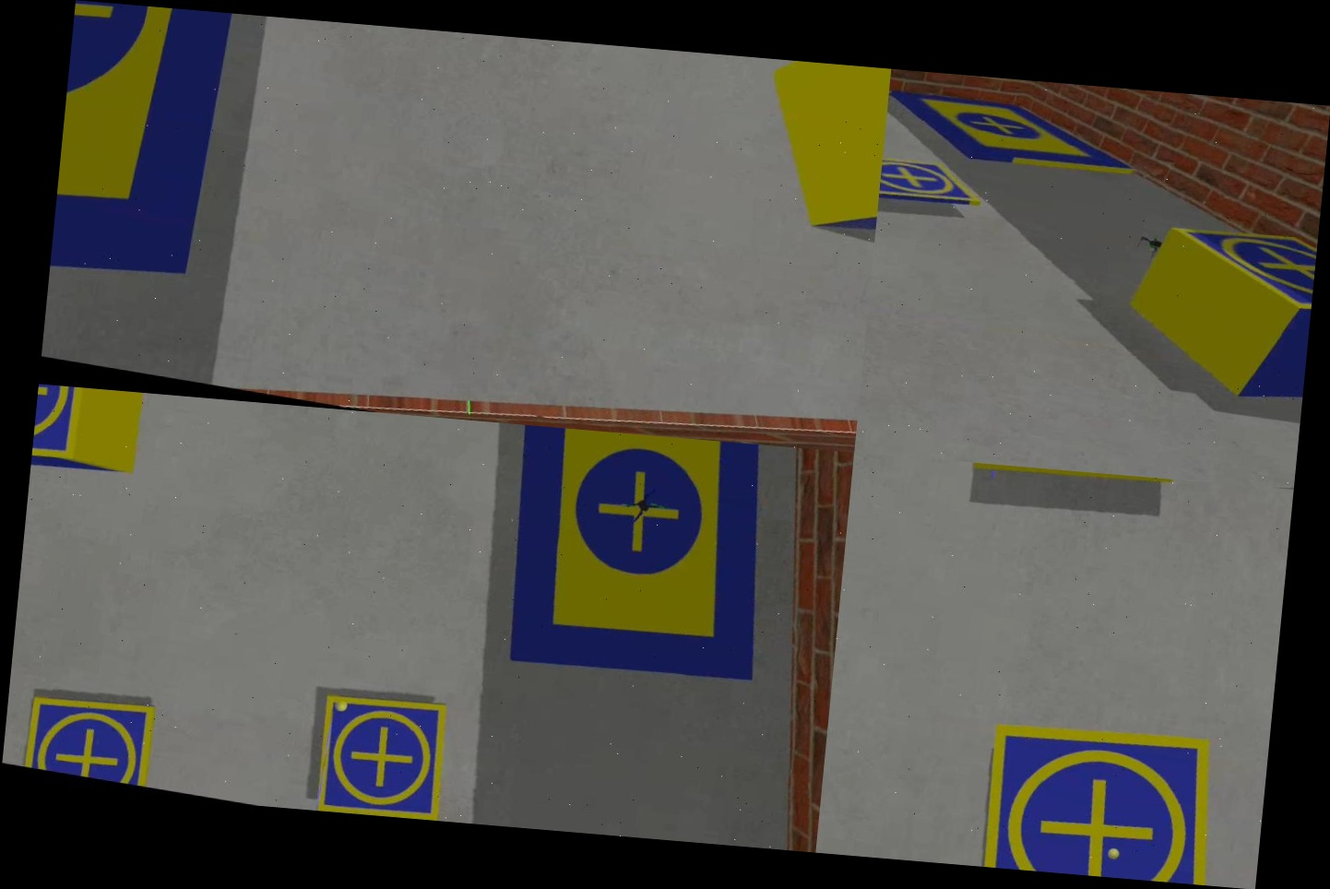large_base: (466, 422, 801, 703), (46, 0, 254, 325), (882, 80, 1146, 186)
small_base: (962, 703, 1247, 887), (302, 682, 458, 821), (1156, 219, 1318, 324), (19, 682, 160, 788), (968, 462, 1177, 501), (877, 152, 985, 218)
